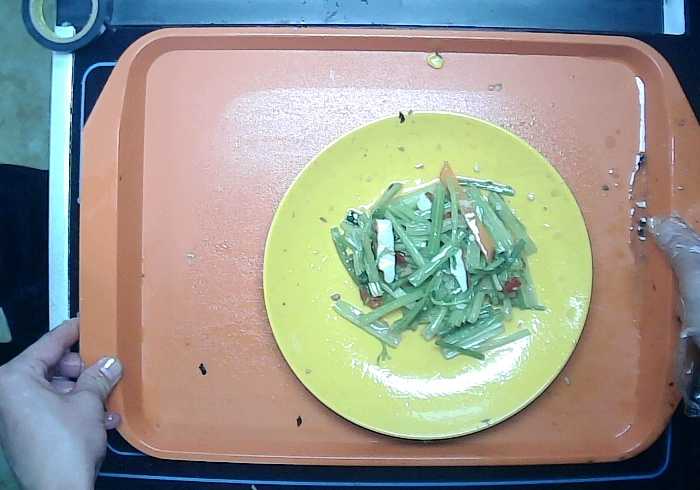HZYJPL-Huang_Se_Yuan_Pan: (238, 94, 604, 456)
